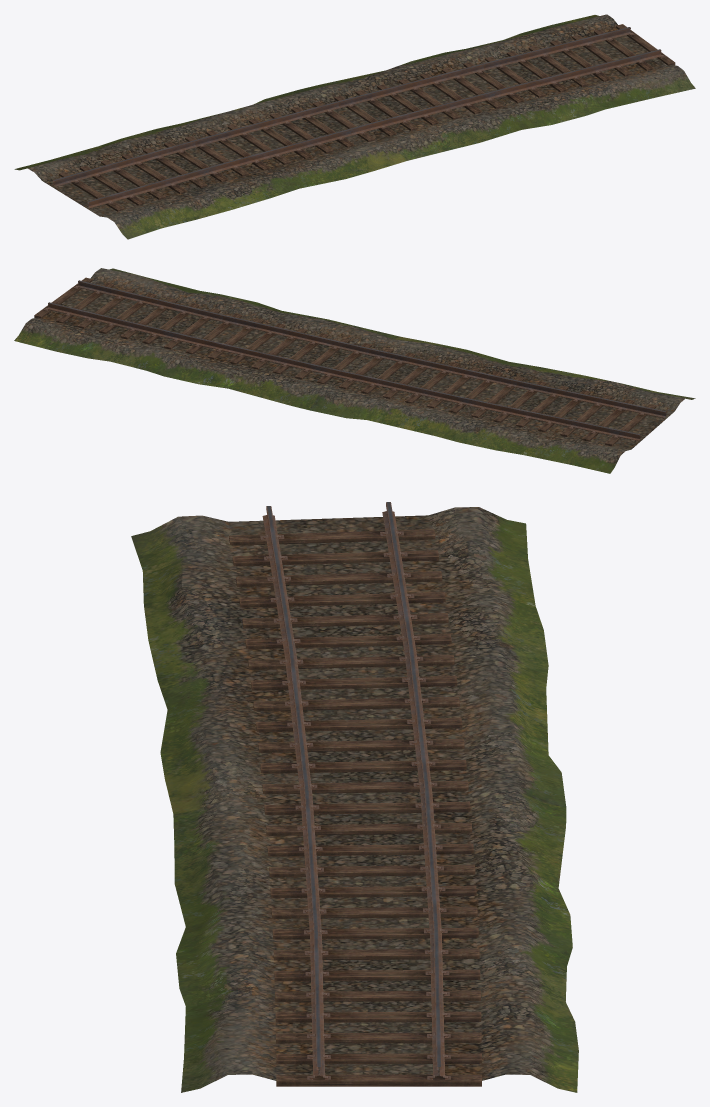
Rendered from Rail.fbx.
3 views of the same model, one above another, from view 1: azimuth 30°, elevation 25°; view 2: azimuth 150°, elevation 25°; view 3: azimuth 270°, elevation 25° (orthographic). The views are drawn at different scales.
Parts seen in each view (by area): view 1: SM_d_114_rail_01a.001; view 2: SM_d_114_rail_01a.001; view 3: SM_d_114_rail_01a.001.
Boxes of the visible parts, left/top/right/bottom form: SM_d_114_rail_01a.001: left=14, top=14, right=695, bottom=239; SM_d_114_rail_01a.001: left=14, top=268, right=695, bottom=473; SM_d_114_rail_01a.001: left=131, top=502, right=578, bottom=1092.
Bounding box in the file's own units: 20.32 × 0.4274 × 6.72.
